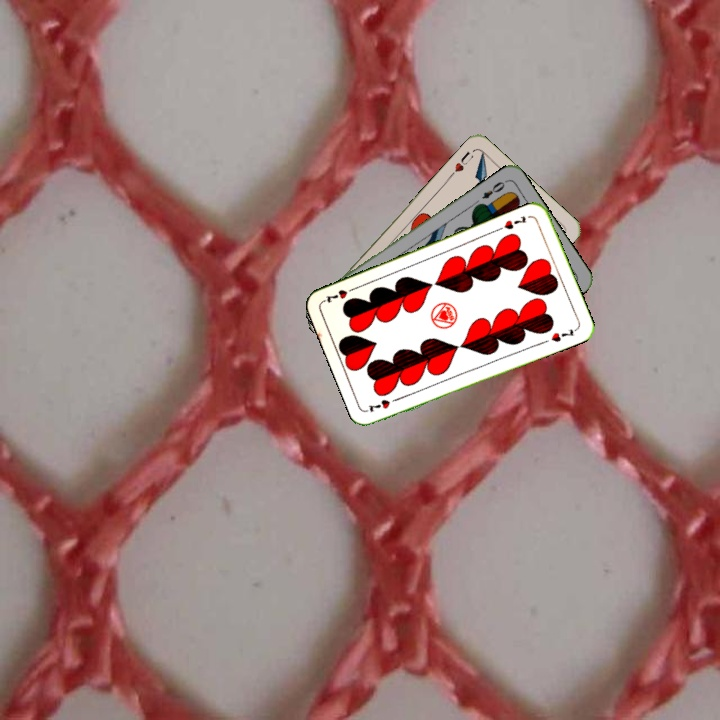EO: (478, 176, 510, 201)
H7: (364, 393, 403, 415), (500, 212, 529, 232)
HU: (446, 147, 476, 180)
